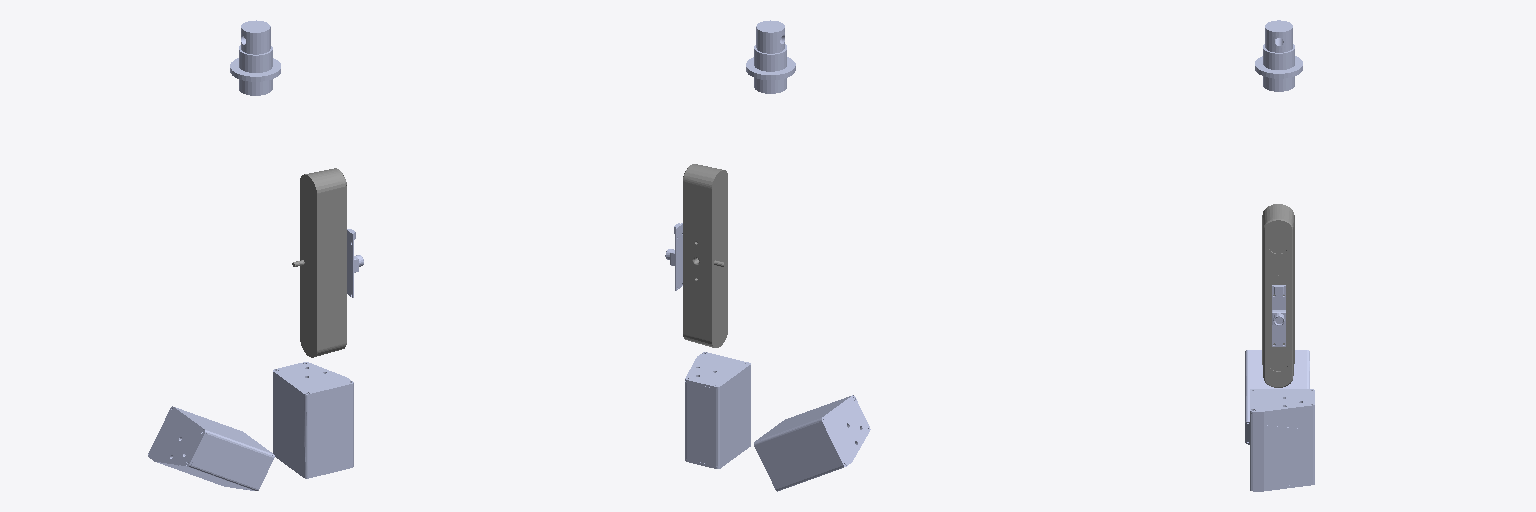
URDF robot description (Ros 2 assembly):
<?xml version="1.0" encoding="utf-8"?>
<!-- This URDF was automatically created by SolidWorks to URDF Exporter! Originally created by Stephen Brawner (brawner@gmail.com) 
     Commit Version: 1.6.0-4-g7f85cfe  Build Version: 1.6.7995.38578
     For more information, please see http://wiki.ros.org/sw_urdf_exporter -->
<robot
  name="Ros 2 assembly">
  <link
    name="base_link">
    <inertial>
      <origin
        xyz="0.0081135 -0.0088276 0.16905"
        rpy="0 0 0" />
      <mass
        value="1.075" />
      <inertia
        ixx="0.0014664"
        ixy="4.1828E-06"
        ixz="-1.0861E-05"
        iyy="0.0015072"
        iyz="-2.3652E-05"
        izz="0.0015929" />
    </inertial>
    <visual>
      <origin
        xyz="0 0 0"
        rpy="0 0 0" />
      <geometry>
        <mesh
          filename="package://Ros 2 assembly/meshes/base_link.STL" />
      </geometry>
      <material
        name="">
        <color
          rgba="0.79216 0.81961 0.92941 1" />
      </material>
    </visual>
    <collision>
      <origin
        xyz="0 0 0"
        rpy="0 0 0" />
      <geometry>
        <mesh
          filename="package://Ros 2 assembly/meshes/base_link.STL" />
      </geometry>
    </collision>
  </link>
  <link
    name="rot_link">
    <inertial>
      <origin
        xyz="-1.2768E-09 2.6825E-10 -0.023497"
        rpy="0 0 0" />
      <mass
        value="0.041606" />
      <inertia
        ixx="1.3344E-05"
        ixy="-2.4579E-12"
        ixz="1.2573E-12"
        iyy="1.327E-05"
        iyz="-3.6513E-13"
        izz="5.5627E-06" />
    </inertial>
    <visual>
      <origin
        xyz="0 0 0"
        rpy="0 0 0" />
      <geometry>
        <mesh
          filename="package://Ros 2 assembly/meshes/rot_link.STL" />
      </geometry>
      <material
        name="">
        <color
          rgba="0.79216 0.81961 0.93333 1" />
      </material>
    </visual>
    <collision>
      <origin
        xyz="0 0 0"
        rpy="0 0 0" />
      <geometry>
        <mesh
          filename="package://Ros 2 assembly/meshes/rot_link.STL" />
      </geometry>
    </collision>
  </link>
  <joint
    name="rot_joint"
    type="revolute">
    <origin
      xyz="0 -5E-05 0.344"
      rpy="0 0 0" />
    <parent
      link="base_link" />
    <child
      link="rot_link" />
    <axis
      xyz="0 0 1" />
    <limit
      lower="0"
      upper="0"
      effort="2.5987"
      velocity="31.416" />
  </joint>
  <link
    name="lidar_side_link">
    <inertial>
      <origin
        xyz="-0.010032 -0.0076905 -0.0051375"
        rpy="0 0 0" />
      <mass
        value="0.049225" />
      <inertia
        ixx="3.0504E-05"
        ixy="2.1873E-06"
        ixz="-1.0675E-06"
        iyy="5.9636E-05"
        iyz="-2.241E-06"
        izz="5.2563E-05" />
    </inertial>
    <visual>
      <origin
        xyz="0 0 0"
        rpy="0 0 0" />
      <geometry>
        <mesh
          filename="package://Ros 2 assembly/meshes/lidar_side_link.STL" />
      </geometry>
      <material
        name="">
        <color
          rgba="0.79216 0.81961 0.93333 1" />
      </material>
    </visual>
    <collision>
      <origin
        xyz="0 0 0"
        rpy="0 0 0" />
      <geometry>
        <mesh
          filename="package://Ros 2 assembly/meshes/lidar_side_link.STL" />
      </geometry>
    </collision>
  </link>
  <joint
    name="lidar_side_joint"
    type="fixed">
    <origin
      xyz="0.0655 -0.00067464 -0.0472"
      rpy="1.5708 1.5708 0" />
    <parent
      link="base_link" />
    <child
      link="lidar_side_link" />
    <axis
      xyz="0 0 0" />
  </joint>
  <link
    name="lidar_bottom_link">
    <inertial>
      <origin
        xyz="-0.010032 -0.0076905 -0.0045629"
        rpy="0 0 0" />
      <mass
        value="0.049225" />
      <inertia
        ixx="3.0504E-05"
        ixy="2.1873E-06"
        ixz="-1.0675E-06"
        iyy="5.9636E-05"
        iyz="-2.241E-06"
        izz="5.2563E-05" />
    </inertial>
    <visual>
      <origin
        xyz="0 0 0"
        rpy="0 0 0" />
      <geometry>
        <mesh
          filename="package://Ros 2 assembly/meshes/lidar_bottom_link.STL" />
      </geometry>
      <material
        name="">
        <color
          rgba="0.79216 0.81961 0.93333 1" />
      </material>
    </visual>
    <collision>
      <origin
        xyz="0 0 0"
        rpy="0 0 0" />
      <geometry>
        <mesh
          filename="package://Ros 2 assembly/meshes/lidar_bottom_link.STL" />
      </geometry>
    </collision>
  </link>
  <joint
    name="lidar_bottom_joint"
    type="fixed">
    <origin
      xyz="-0.042874 0.0017 -0.058344"
      rpy="-1.5708 0.5236 0" />
    <parent
      link="base_link" />
    <child
      link="lidar_bottom_link" />
    <axis
      xyz="0 0 0" />
  </joint>
  <link
    name="thermal_cam_link">
    <inertial>
      <origin
        xyz="0.0018626 -2.2776E-05 0.0016758"
        rpy="0 0 0" />
      <mass
        value="0.0026558" />
      <inertia
        ixx="5.4897E-07"
        ixy="-5.7385E-24"
        ixz="2.248E-09"
        iyy="5.4333E-07"
        iyz="1.9625E-21"
        izz="5.9387E-08" />
    </inertial>
    <visual>
      <origin
        xyz="0 0 0"
        rpy="0 0 0" />
      <geometry>
        <mesh
          filename="package://Ros 2 assembly/meshes/thermal_cam_link.STL" />
      </geometry>
      <material
        name="">
        <color
          rgba="0.79216 0.81961 0.93333 1" />
      </material>
    </visual>
    <collision>
      <origin
        xyz="0 0 0"
        rpy="0 0 0" />
      <geometry>
        <mesh
          filename="package://Ros 2 assembly/meshes/thermal_cam_link.STL" />
      </geometry>
    </collision>
  </link>
  <joint
    name="thermal_cam_joint"
    type="fixed">
    <origin
      xyz="0.096003 0 0.10277"
      rpy="0 0 0" />
    <parent
      link="base_link" />
    <child
      link="thermal_cam_link" />
    <axis
      xyz="0 0 0" />
  </joint>
  <link
    name="stereo_cam_link">
    <inertial>
      <origin
        xyz="0.0028842 -0.060003 -2.557E-05"
        rpy="0 0 0" />
      <mass
        value="0.15226" />
      <inertia
        ixx="0.00037233"
        ixy="2.3873E-09"
        ixz="-3.7022E-08"
        iyy="2.2818E-05"
        iyz="6.2314E-09"
        izz="0.00037474" />
    </inertial>
    <visual>
      <origin
        xyz="0 0 0"
        rpy="0 0 0" />
      <geometry>
        <mesh
          filename="package://Ros 2 assembly/meshes/stereo_cam_link.STL" />
      </geometry>
      <material
        name="">
        <color
          rgba="0.62745 0.62745 0.62745 1" />
      </material>
    </visual>
    <collision>
      <origin
        xyz="0 0 0"
        rpy="0 0 0" />
      <geometry>
        <mesh
          filename="package://Ros 2 assembly/meshes/stereo_cam_link.STL" />
      </geometry>
    </collision>
  </link>
  <joint
    name="stereo_cam_joint"
    type="fixed">
    <origin
      xyz="0.065683 -0.00067464 0.17"
      rpy="1.5708 0 0" />
    <parent
      link="base_link" />
    <child
      link="stereo_cam_link" />
    <axis
      xyz="0 0 0" />
  </joint>
</robot>

--- Facts derived from the render (not from the file) ---
3 views of the same robot in one strip: view 1: azimuth 30°, elevation 25°; view 2: azimuth 150°, elevation 25°; view 3: azimuth 270°, elevation 25° (orthographic).
Model Ros 2 assembly with 6 links and 5 joints (1 revolute, 4 fixed), rooted at base_link, posed all joints at 0.
Links seen in each view (by area): view 1: stereo_cam_link, lidar_side_link, lidar_bottom_link, rot_link, thermal_cam_link; view 2: stereo_cam_link, lidar_side_link, lidar_bottom_link, rot_link, thermal_cam_link; view 3: lidar_side_link, stereo_cam_link, rot_link, lidar_bottom_link, thermal_cam_link.
Boxes of the visible links, x1,y1,x2,y2 form: stereo_cam_link: [292, 168, 346, 357]; lidar_side_link: [273, 362, 353, 478]; lidar_bottom_link: [148, 406, 274, 490]; rot_link: [230, 20, 280, 95]; thermal_cam_link: [347, 229, 363, 297]; stereo_cam_link: [683, 164, 727, 347]; lidar_side_link: [685, 352, 750, 468]; lidar_bottom_link: [754, 395, 870, 491]; rot_link: [746, 20, 795, 93]; thermal_cam_link: [665, 223, 682, 290]; lidar_side_link: [1250, 389, 1314, 491]; stereo_cam_link: [1262, 204, 1294, 387]; rot_link: [1255, 20, 1302, 91]; lidar_bottom_link: [1245, 350, 1309, 444]; thermal_cam_link: [1272, 285, 1285, 346].
Size in the robot's own frame: 0.2004 by 0.0646 by 0.4464 metres.
Meshes: 6 distinct files referenced, 5 mesh visuals loaded (5 binary STL); not drawn: 1 (reference not matched to a file when rendering).
